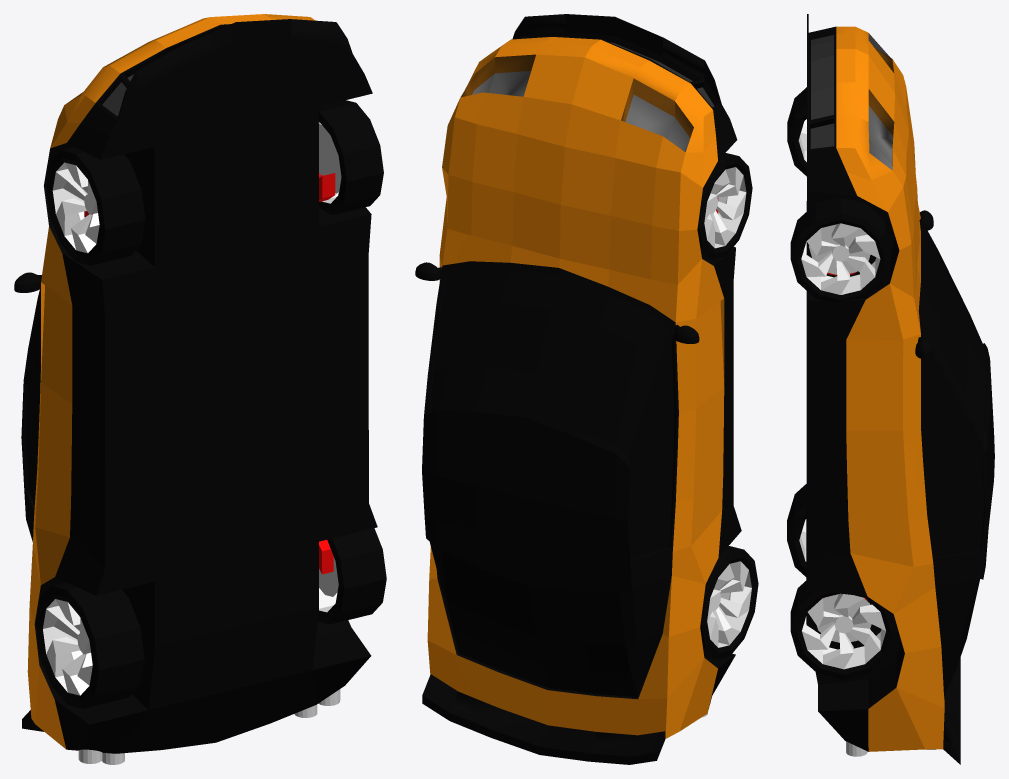
File: Muscle_car.fbx
3 views of the same model, side by side, from view 1: azimuth 30°, elevation 25°; view 2: azimuth 150°, elevation 25°; view 3: azimuth 270°, elevation 25° (orthographic). The views are drawn at different scales.
Parts seen in each view (by area): view 1: Muscle car 2.Body; view 2: Muscle car 2.Body; view 3: Muscle car 2.Body.
Part boxes in pixels (x1=…): Muscle car 2.Body: x1=14, y1=14, x2=386, y2=764; Muscle car 2.Body: x1=415, y1=14, x2=758, y2=764; Muscle car 2.Body: x1=787, y1=14, x2=994, y2=764.
Bounding box in the file's own units: 101 × 372 × 161.
